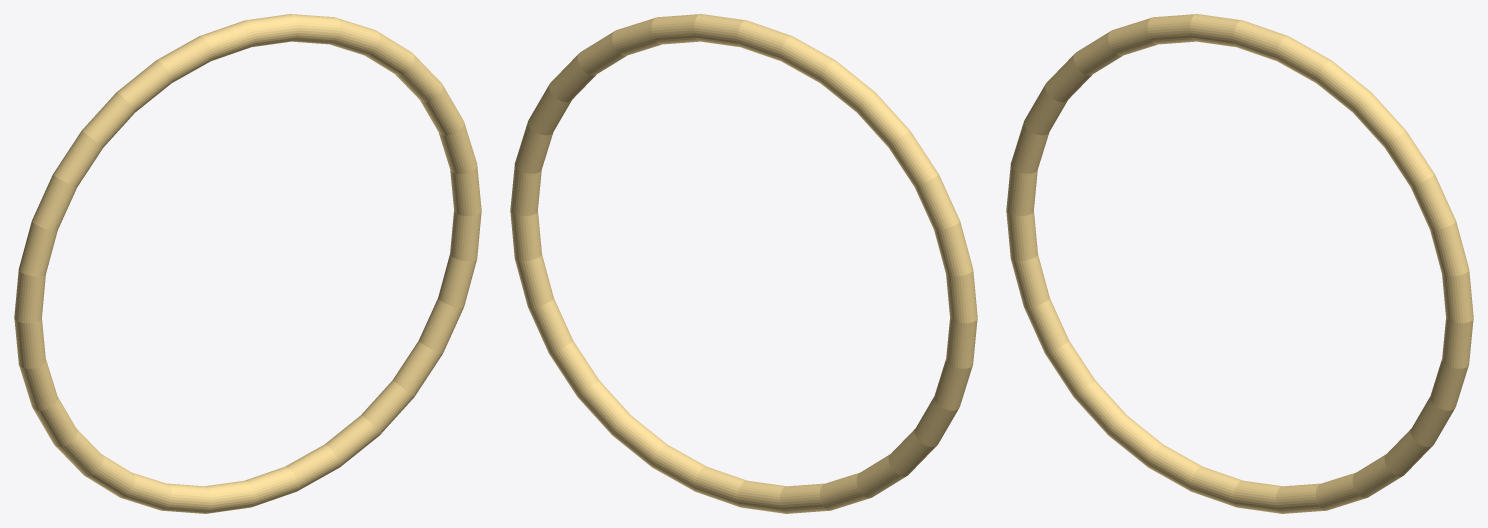
Rendered from bangle_gold.glb.
The picture shows the model from 3 angles, left to right: view 1: azimuth 30°, elevation 25°; view 2: azimuth 150°, elevation 25°; view 3: azimuth 330°, elevation 25°; orthographic projection.
Parts seen in each view (by area): view 1: world; view 2: world; view 3: world.
Boxes of the visible parts, x1,y1,x2,y2 form: world: [14, 14, 481, 513]; world: [510, 14, 977, 513]; world: [1006, 14, 1473, 513].
Bounding box in the file's own units: 0.116 × 0.116 × 0.006.
